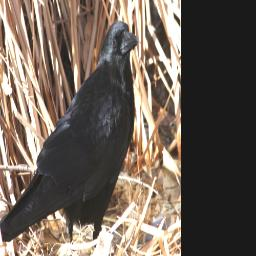Crow: (0, 19, 140, 245)
